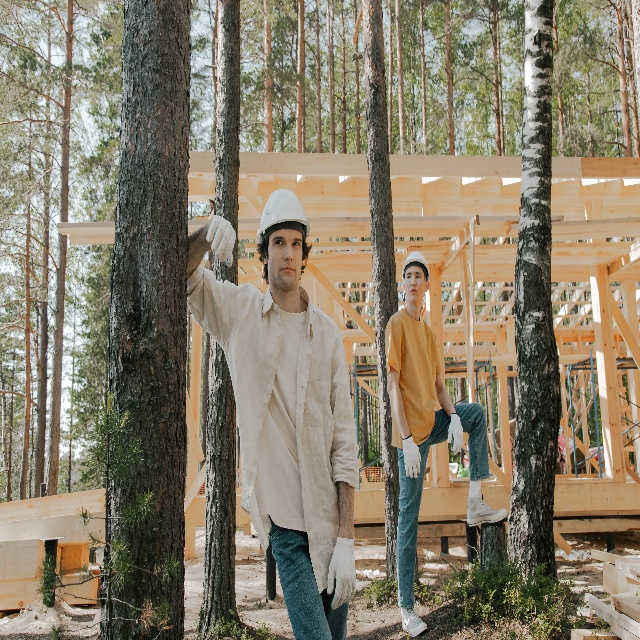Guantes: (327, 535, 357, 611), (205, 213, 236, 267), (402, 434, 421, 479), (447, 413, 464, 455)
